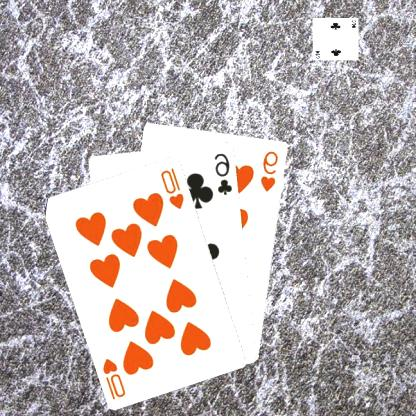10H: (101, 354, 129, 401), (160, 164, 187, 210)
6C: (213, 150, 236, 196)
9H: (260, 148, 282, 193)
